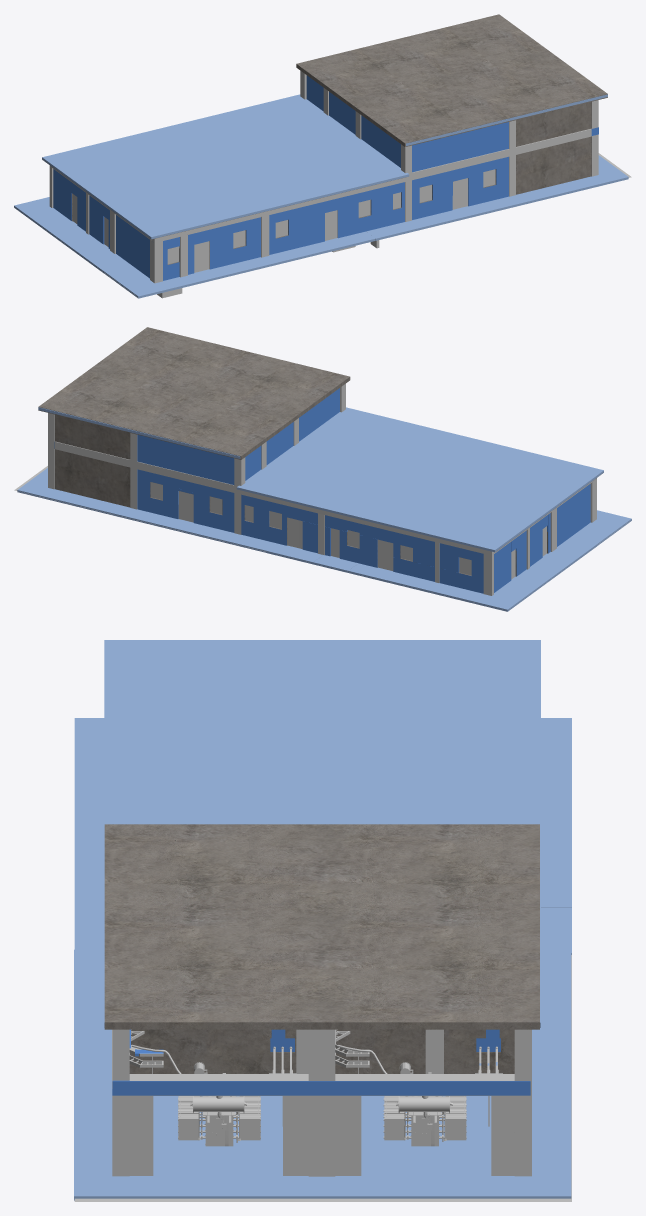
File: _151_substation_v_1_40_25.DAE
The picture shows the model from 3 angles, top to bottom: view 1: azimuth 30°, elevation 25°; view 2: azimuth 150°, elevation 25°; view 3: azimuth 270°, elevation 25°; orthographic projection. The views are drawn at different scales.
Visible parts, largest first — view 1: S008-bb001, S008, S201-ins002, S009-bb001, S007-bb005, S116-ins001, S007-bb020, S009-bb003, S007-bb033, S009-bb006, S007-bb002, S007-bb001 (+13 smaller); view 2: S008-bb001, S008, S201-ins001, S009-bb003, S009-bb001, S007-bb025, S007-bb022, S116, S007-bb033, S007-bb044, S007-bb028, S007-bb040 (+17 smaller); view 3: S008, S008-bb001, S009-bb001, S007_, S198-bb002, S009-bb003, S009-bb006, S196, S115, S198, S193-ins001, S193 (+11 smaller).
Boxes of the visible parts, x1=… form: S008-bb001: x1=42, y1=94, x2=409, y2=239; S008: x1=43, y1=14, x2=607, y2=239; S201-ins002: x1=516, y1=102, x2=591, y2=194; S009-bb001: x1=366, y1=155, x2=628, y2=240; S007-bb005: x1=163, y1=156, x2=508, y2=250; S116-ins001: x1=154, y1=128, x2=591, y2=242; S007-bb020: x1=412, y1=122, x2=508, y2=172; S009-bb003: x1=14, y1=197, x2=130, y2=272; S007-bb033: x1=306, y1=75, x2=400, y2=167; S009-bb006: x1=195, y1=236, x2=356, y2=281; S007-bb002: x1=337, y1=195, x2=452, y2=238; S007-bb001: x1=210, y1=227, x2=324, y2=269; S008-bb001: x1=236, y1=407, x2=603, y2=552; S008: x1=38, y1=327, x2=602, y2=551; S201-ins001: x1=55, y1=414, x2=130, y2=507; S009-bb003: x1=348, y1=537, x2=596, y2=611; S009-bb001: x1=17, y1=468, x2=279, y2=552; S007-bb025: x1=137, y1=469, x2=483, y2=562; S007-bb022: x1=137, y1=434, x2=234, y2=484; S116: x1=55, y1=441, x2=491, y2=555; S007-bb033: x1=245, y1=388, x2=339, y2=480; S007-bb044: x1=547, y1=484, x2=590, y2=553; S007-bb028: x1=193, y1=508, x2=286, y2=545; S007-bb040: x1=393, y1=557, x2=483, y2=593; S008: x1=104, y1=824, x2=539, y2=1029; S008-bb001: x1=104, y1=640, x2=540, y2=825; S009-bb001: x1=74, y1=949, x2=571, y2=1200; S007_: x1=129, y1=1029, x2=514, y2=1073; S198-bb002: x1=112, y1=1080, x2=530, y2=1095; S009-bb003: x1=541, y1=718, x2=571, y2=873; S009-bb006: x1=74, y1=783, x2=104, y2=930; S196: x1=283, y1=1096, x2=361, y2=1175; S115: x1=308, y1=1029, x2=335, y2=1176; S198: x1=129, y1=1074, x2=514, y2=1095; S193-ins001: x1=112, y1=1029, x2=129, y2=1176; S193: x1=514, y1=1029, x2=531, y2=1176.
Size of what is drawn, in the model's own units: 412 by 180 by 88.51.
